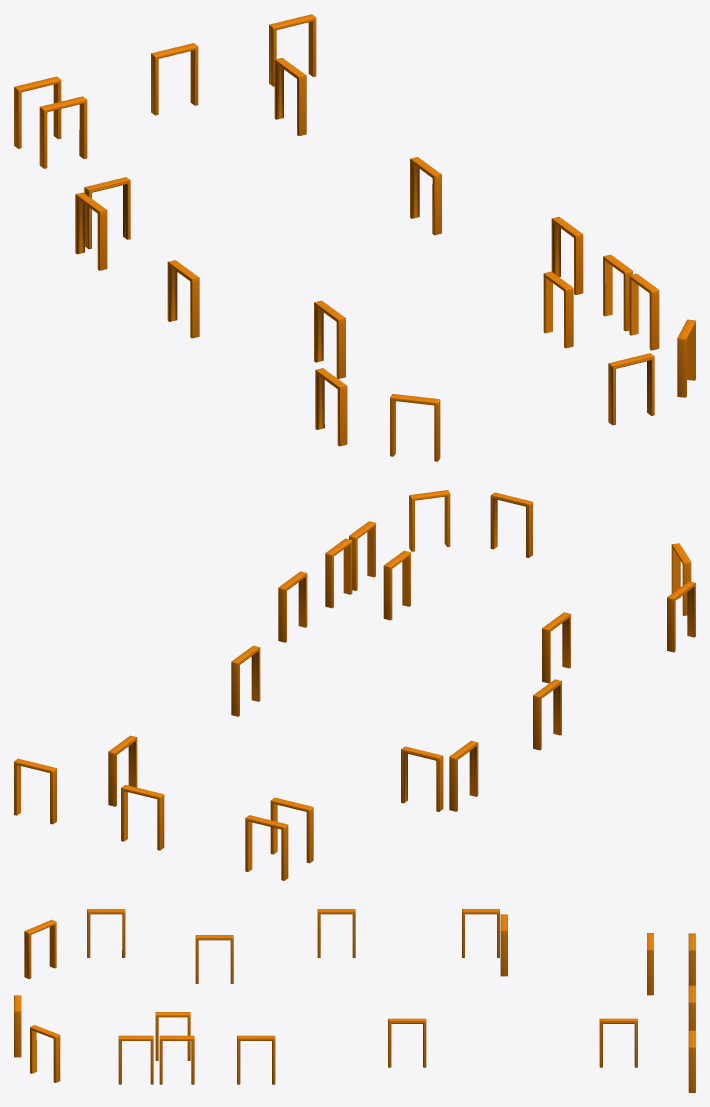
File: frames.FBX
3 views of the same model, one above another, from view 1: azimuth 30°, elevation 25°; view 2: azimuth 150°, elevation 25°; view 3: azimuth 270°, elevation 25° (orthographic). The views are drawn at different scales.
Parts seen in each view (by area): view 1: Frame003, Frame01, Frame002, Frame015, Frame012, Frame010, Frame011, Frame016, Frame013, Frame005, Frame007, Frame008 (+6 smaller); view 2: Frame003, Frame013, Frame011, Frame016, Frame014, Frame012, Frame01, Frame002, Frame010, Frame006, Frame007, Frame005 (+6 smaller); view 3: Frame009, Frame018, Frame011, Frame012, Frame013, Frame01, Frame002, Frame010, Frame014, Frame015, Frame016, Frame004 (+6 smaller).
Boxes of the visible parts, x1,y1,x2,y2 form: Frame003: (75, 192, 107, 270); Frame01: (315, 368, 347, 446); Frame002: (167, 260, 199, 338); Frame015: (629, 273, 659, 350); Frame012: (274, 58, 306, 135); Frame010: (314, 300, 345, 378); Frame011: (410, 157, 441, 235); Frame016: (543, 271, 573, 348); Frame013: (551, 217, 583, 294); Frame005: (39, 96, 87, 168); Frame007: (151, 43, 198, 115); Frame008: (269, 14, 316, 86); Frame003: (449, 740, 478, 811); Frame013: (278, 571, 307, 642); Frame011: (231, 645, 260, 716); Frame016: (383, 550, 410, 620); Frame014: (325, 538, 352, 608); Frame012: (108, 735, 137, 806); Frame01: (667, 581, 695, 652); Frame002: (533, 679, 561, 750); Frame010: (542, 612, 570, 683); Frame006: (245, 815, 288, 880); Frame007: (121, 785, 164, 850); Frame005: (270, 797, 313, 863); Frame009: (24, 919, 56, 979); Frame018: (30, 1025, 60, 1082); Frame011: (388, 1018, 426, 1067); Frame012: (599, 1018, 637, 1067); Frame013: (237, 1035, 275, 1084); Frame01: (87, 909, 125, 957); Frame002: (317, 909, 355, 957); Frame010: (195, 935, 233, 983); Frame014: (159, 1035, 194, 1084); Frame015: (118, 1035, 153, 1084); Frame016: (155, 1012, 190, 1060); Frame004: (500, 914, 507, 976).
Bounding box in the file's own units: 14.73 × 2.29 × 30.75.
